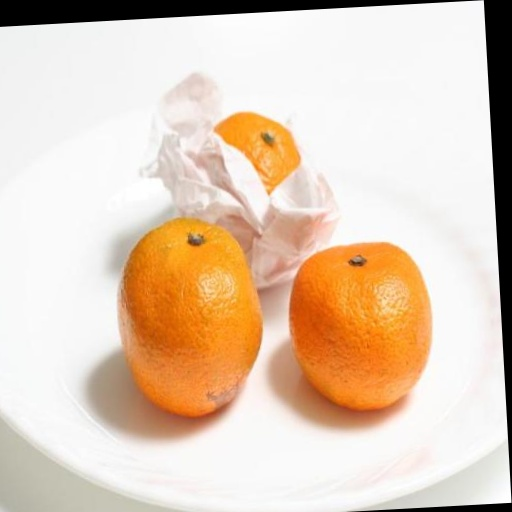fruit: (118, 218, 262, 416), (290, 242, 432, 409), (215, 112, 300, 193)
